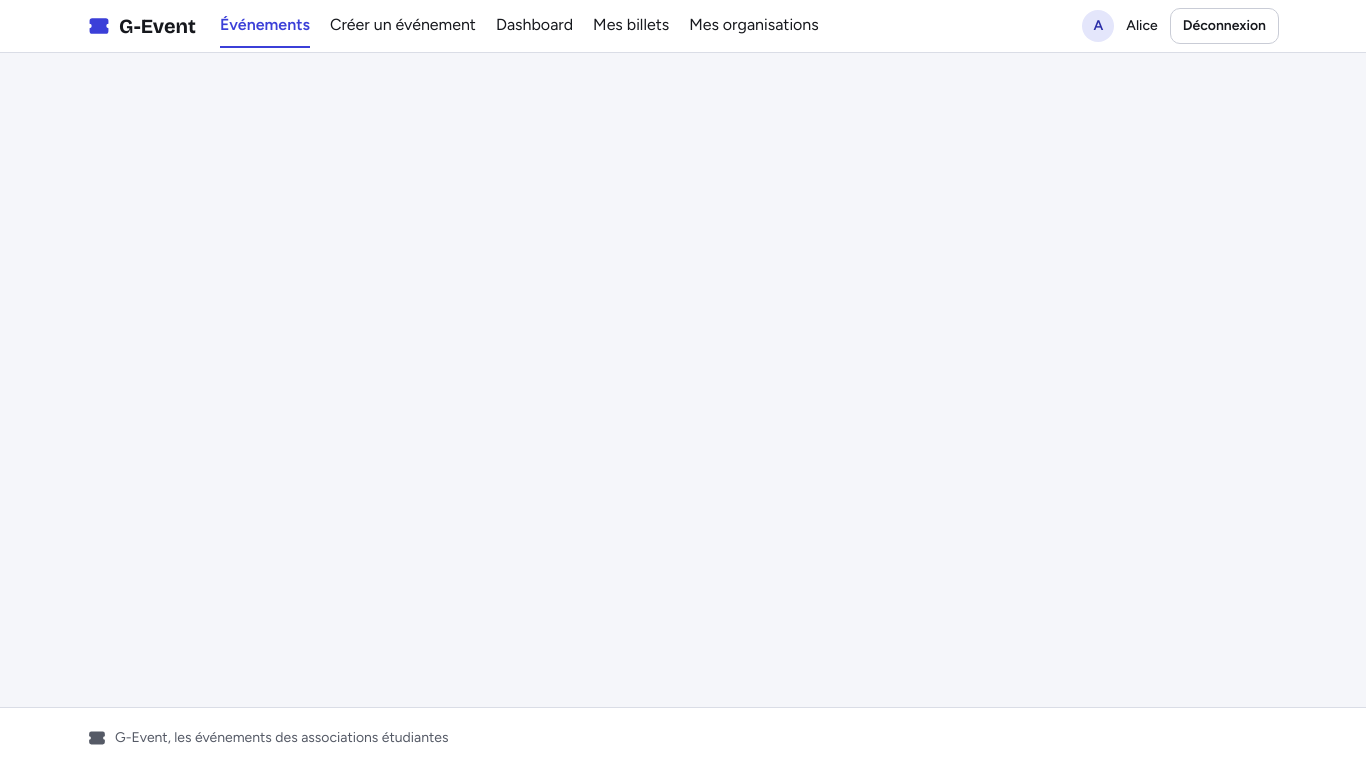
Test: RootLayout header › logs out on click and goes back to the login link
Click the button "Déconnexion". click: (1224, 26)
box: [1170,8,1279,44]
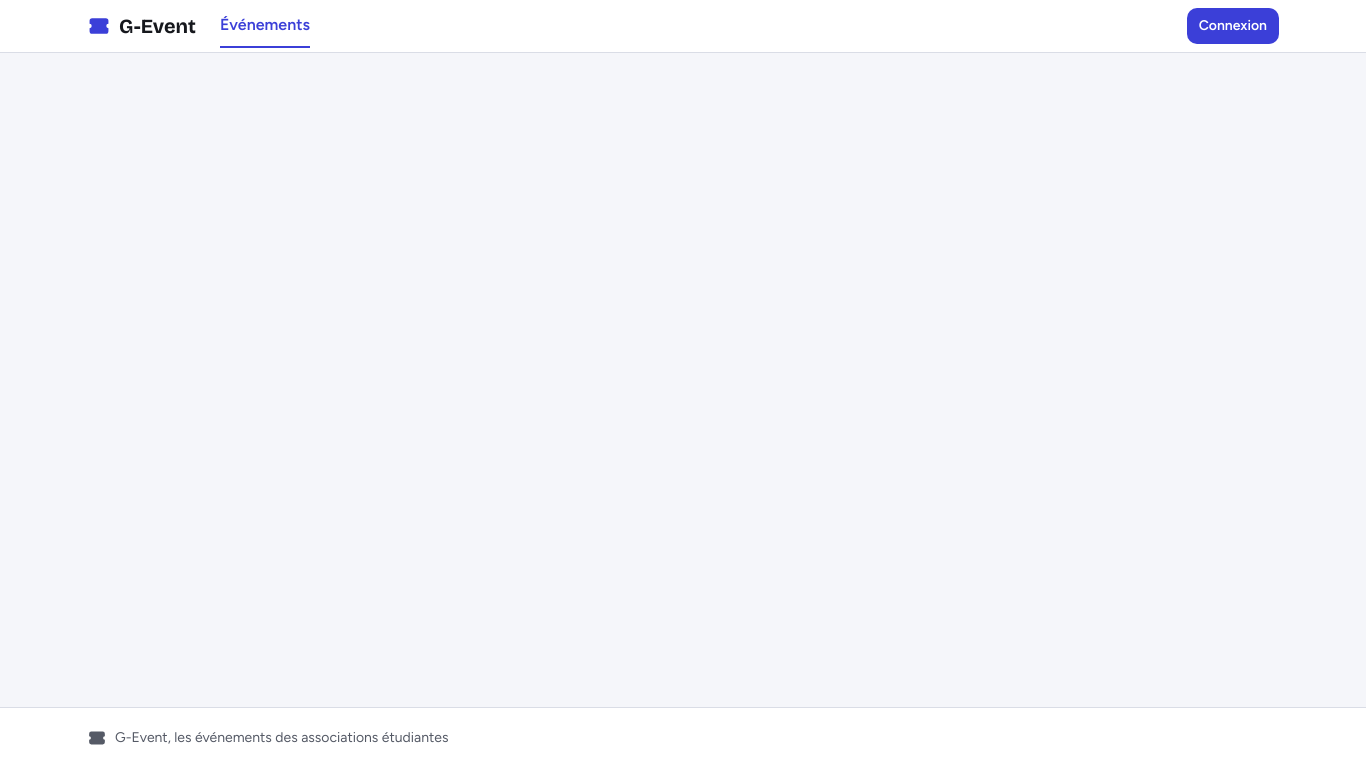
Expected: the link "Connexion" is shown, [1187,8,1279,44]
Expected: the link "Dashboard" is gone
